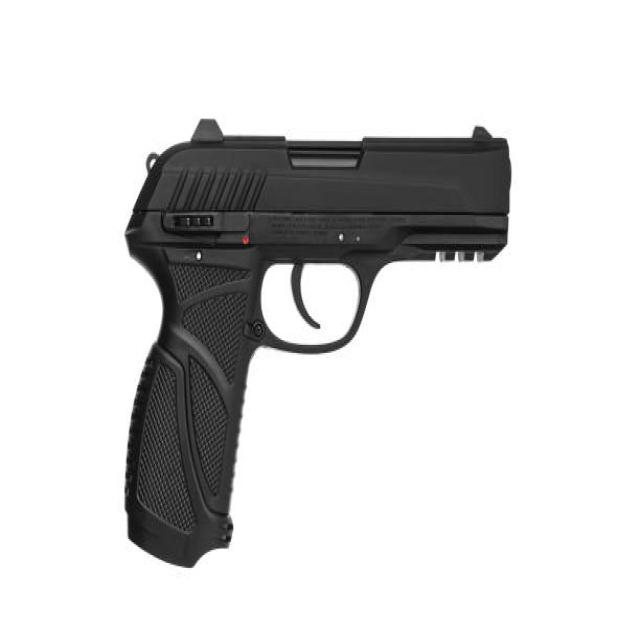pistol: (116, 113, 521, 574)
